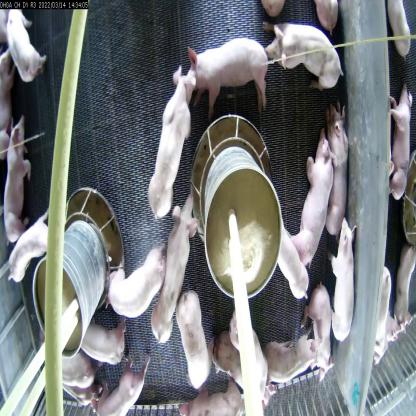Pig: (148, 65, 197, 223), (148, 192, 196, 347), (291, 119, 338, 273), (186, 39, 275, 118), (259, 17, 345, 89), (212, 325, 276, 414), (323, 98, 359, 240), (0, 112, 34, 250), (229, 308, 273, 414), (102, 245, 166, 317), (92, 348, 156, 416), (329, 210, 359, 343), (302, 278, 338, 388), (0, 210, 52, 284), (2, 4, 48, 87), (174, 288, 211, 388), (268, 220, 311, 304), (386, 88, 416, 206), (263, 326, 318, 382), (174, 376, 245, 416), (82, 316, 134, 368), (0, 46, 19, 162), (54, 343, 94, 389), (376, 260, 390, 379)
